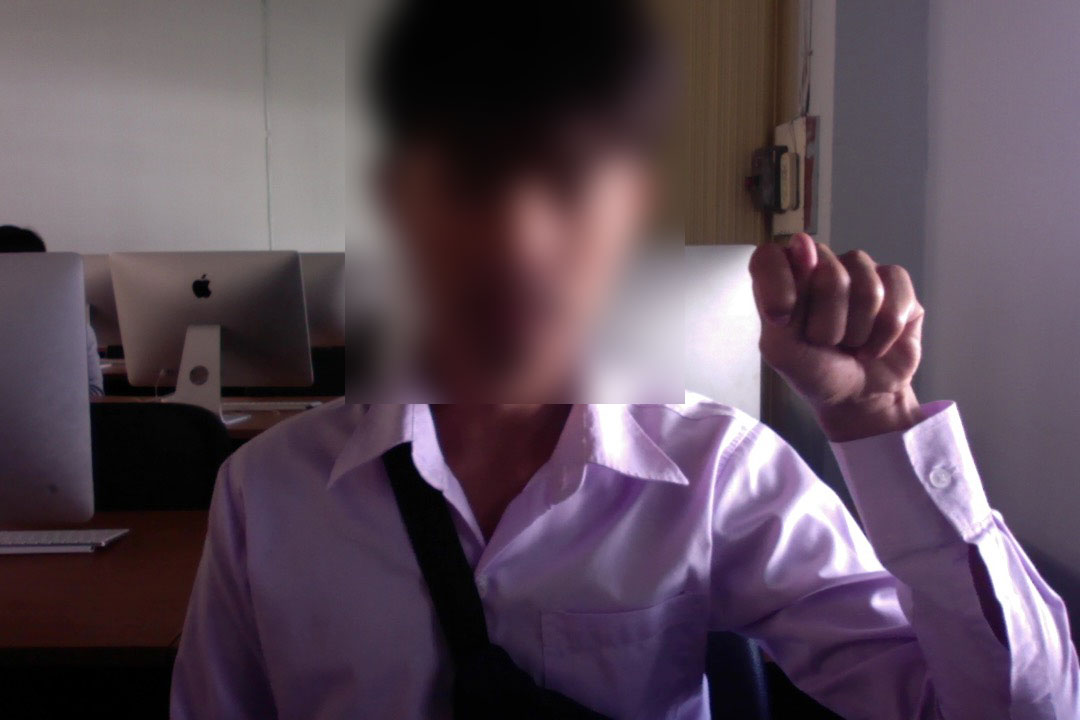tor: (744, 228, 936, 419)
